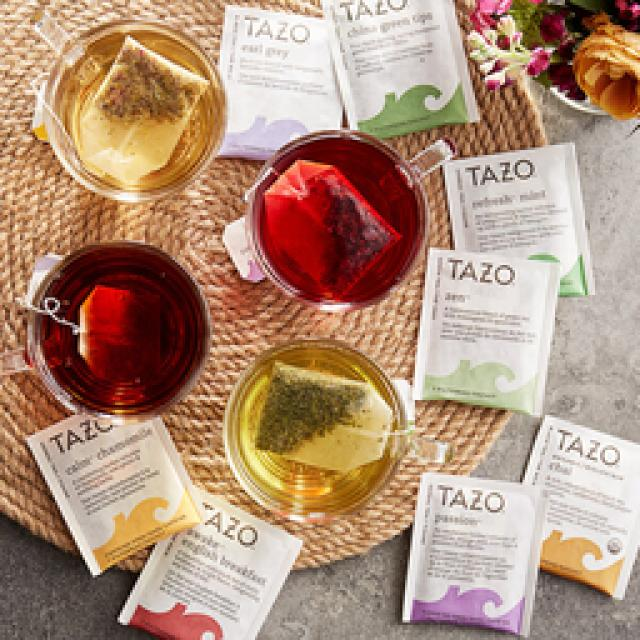tea-bags: (402, 142, 638, 635), (28, 415, 300, 638), (218, 0, 478, 158), (265, 161, 402, 296), (80, 35, 208, 178), (255, 360, 390, 468), (80, 285, 160, 380)
